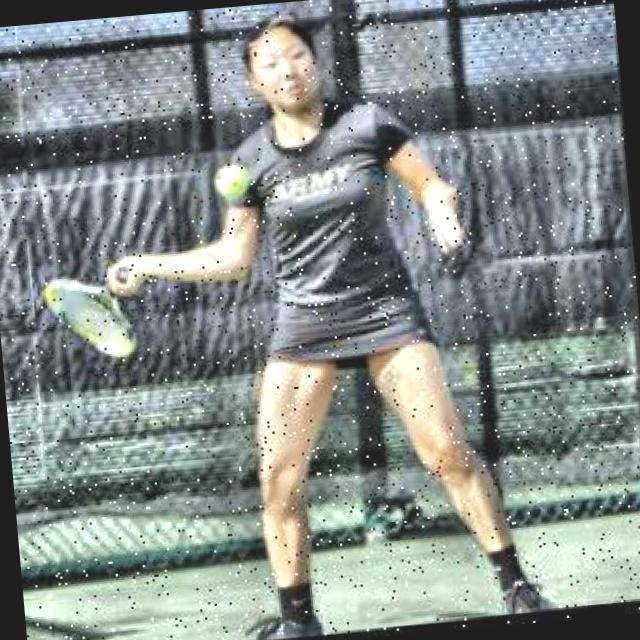Tennis Ball: (216, 162, 251, 200)
